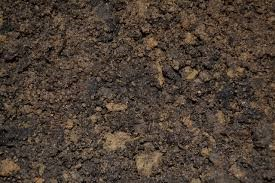dirt: (1, 4, 272, 178)
